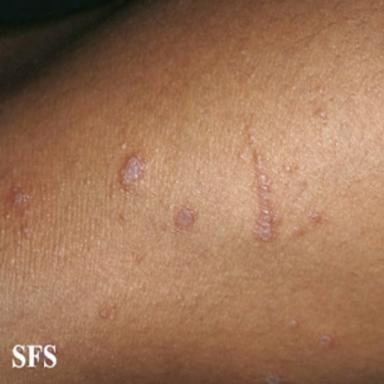lichen: (253, 149, 275, 242), (119, 154, 146, 190), (8, 185, 29, 215), (96, 298, 118, 320), (175, 207, 195, 229), (265, 375, 280, 384), (319, 335, 331, 346)
